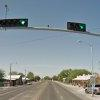Traffic light: (55, 14, 95, 34)
